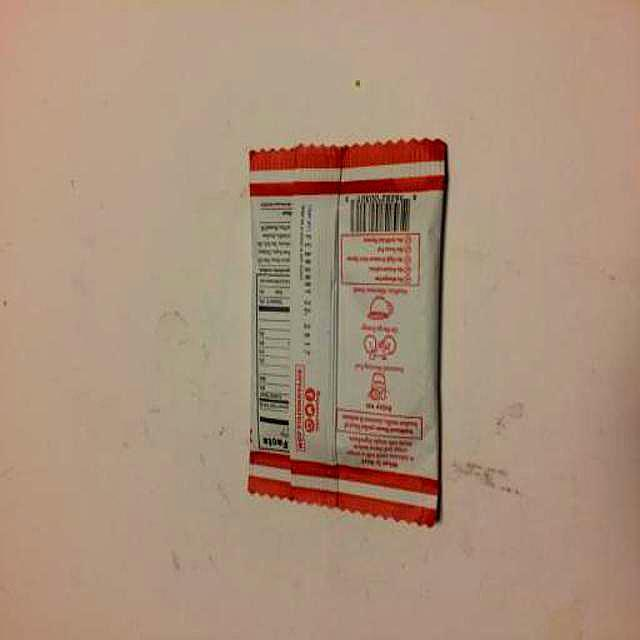Non-biodegradable: (244, 136, 450, 529)
